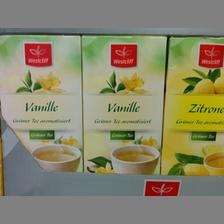Tee: (80, 34, 166, 176), (0, 32, 84, 172), (160, 35, 224, 175)
